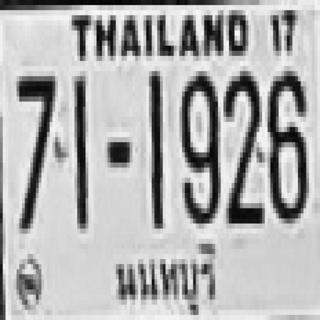N01: (73, 74, 87, 226), (149, 71, 160, 224)
N02: (223, 68, 262, 221)
N06: (268, 66, 306, 218)
N07: (15, 71, 54, 228)
N09: (179, 71, 218, 224)
P37: (113, 238, 218, 317)
